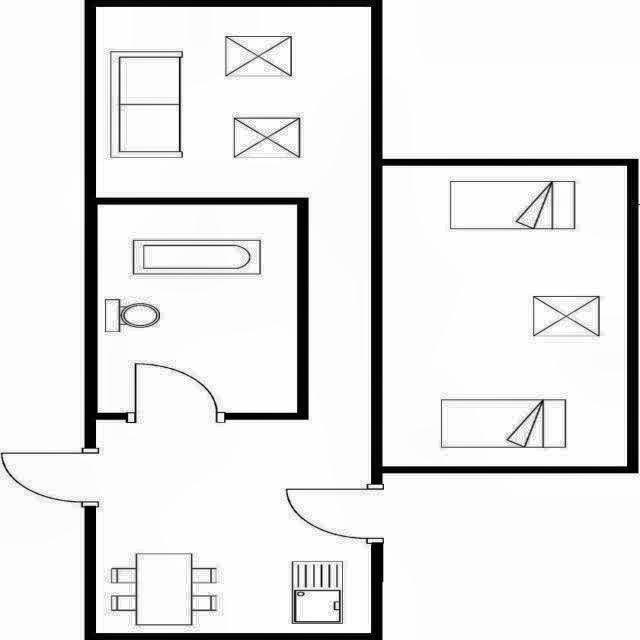room: (96, 7, 371, 633), (382, 166, 627, 466), (97, 204, 297, 413)
